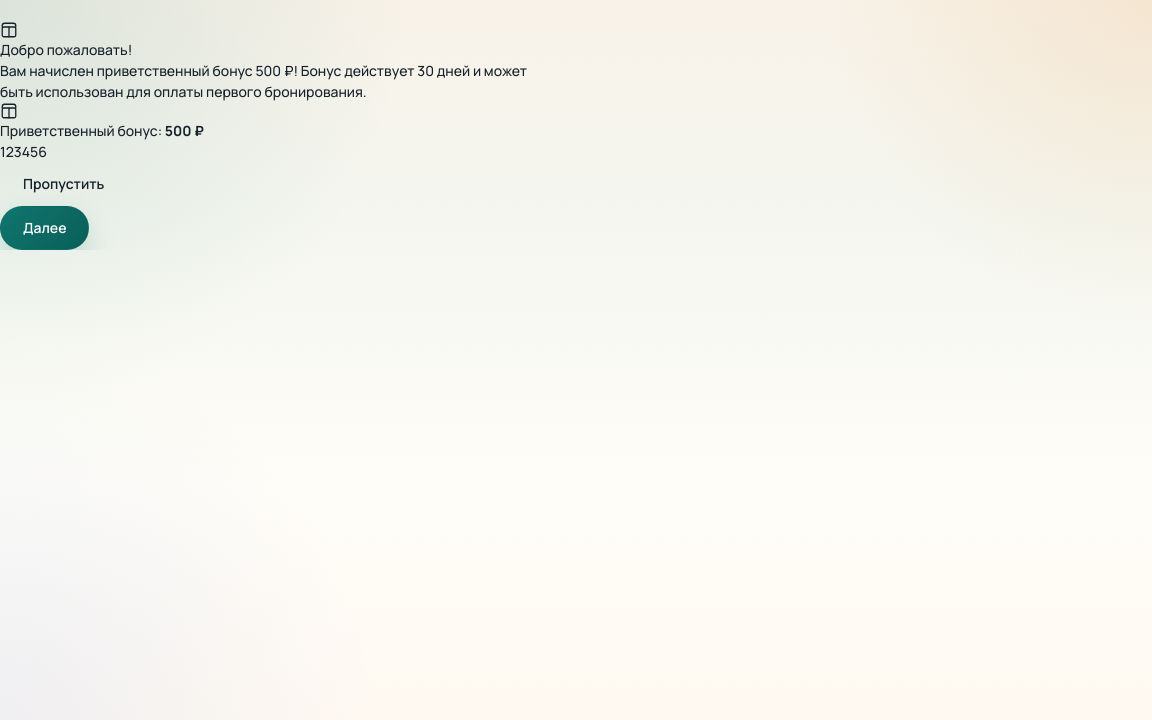
OnboardingTour › navigates through all 6 steps
Expected: the heading "Добро пожаловать!" is shown, [0, 40, 132, 59]
Click the button "Далее".
click(45, 228)  # box [0, 206, 90, 250]
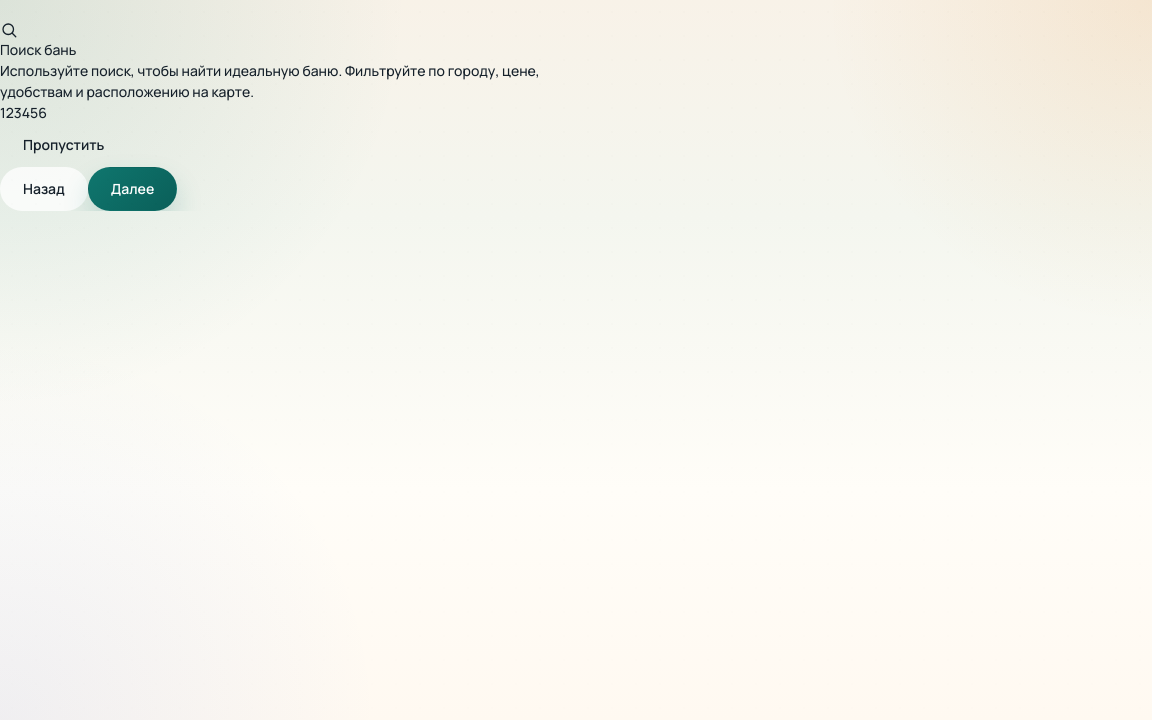
Expected: the heading "Поиск бань" is shown, [0, 40, 76, 59]
Click the button "Далее".
click(133, 189)  # box [88, 167, 177, 211]
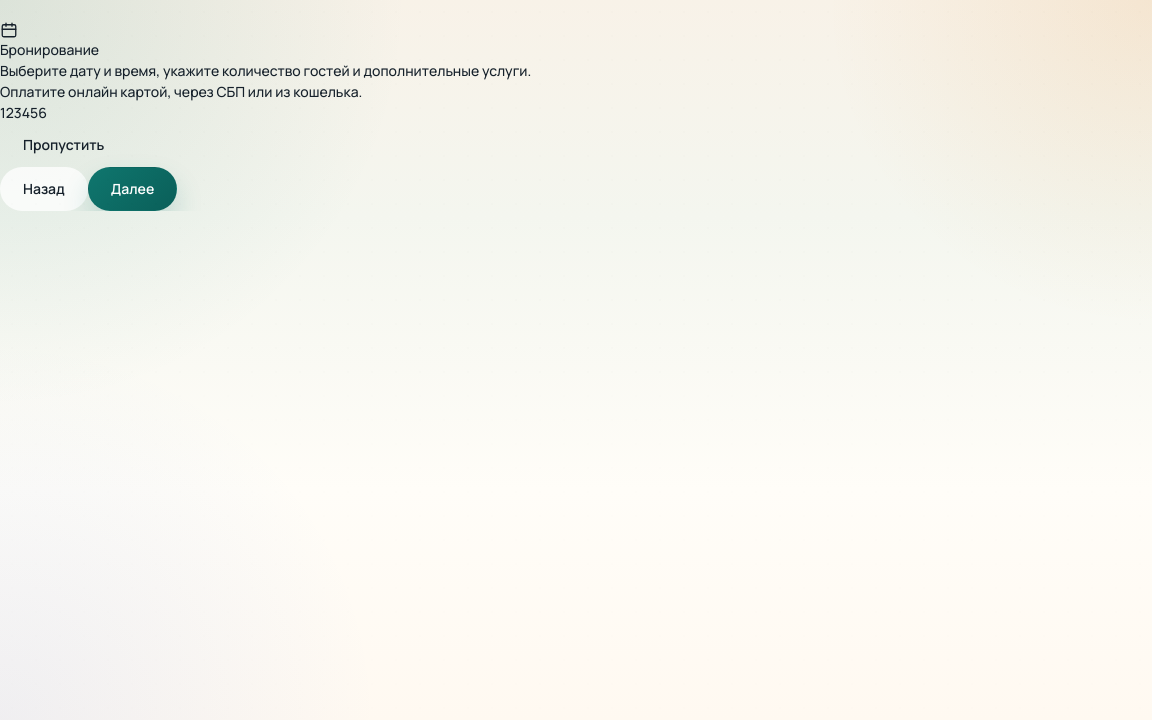
Expected: the heading "Бронирование" is shown, [0, 40, 99, 59]
Click the button "Далее".
click(133, 189)  # box [88, 167, 177, 211]
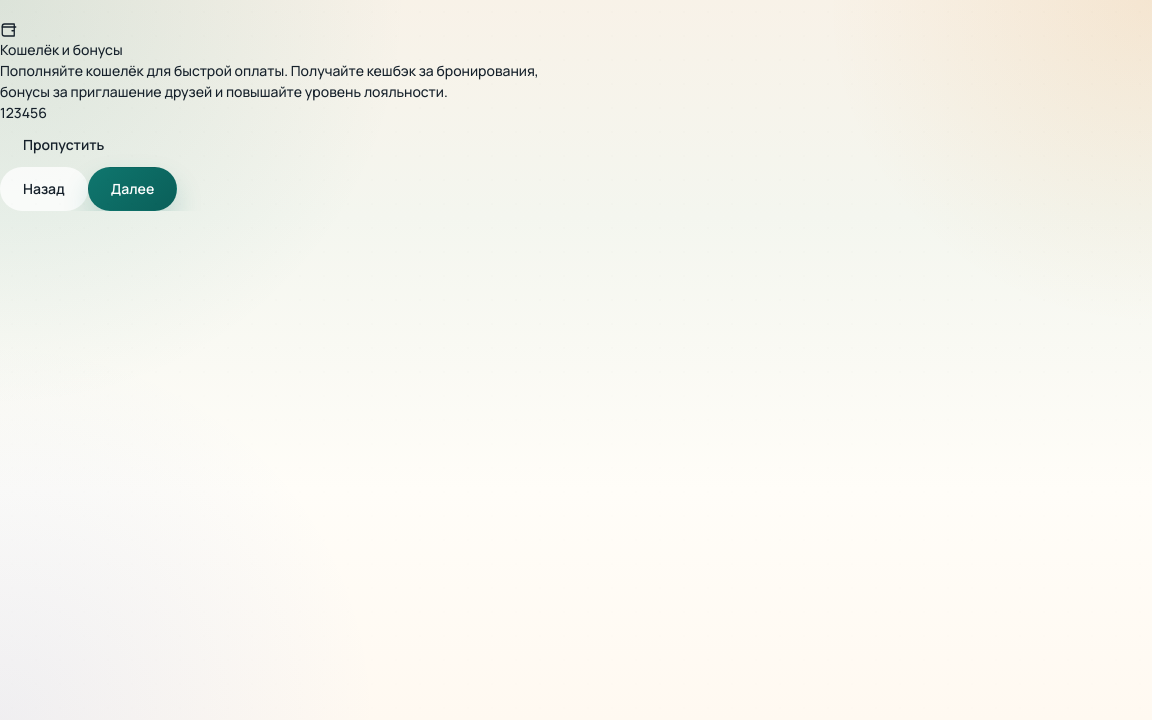
Expected: the heading "Кошелёк и бонусы" is shown, [0, 40, 123, 59]
Click the button "Далее".
click(133, 189)  # box [88, 167, 177, 211]
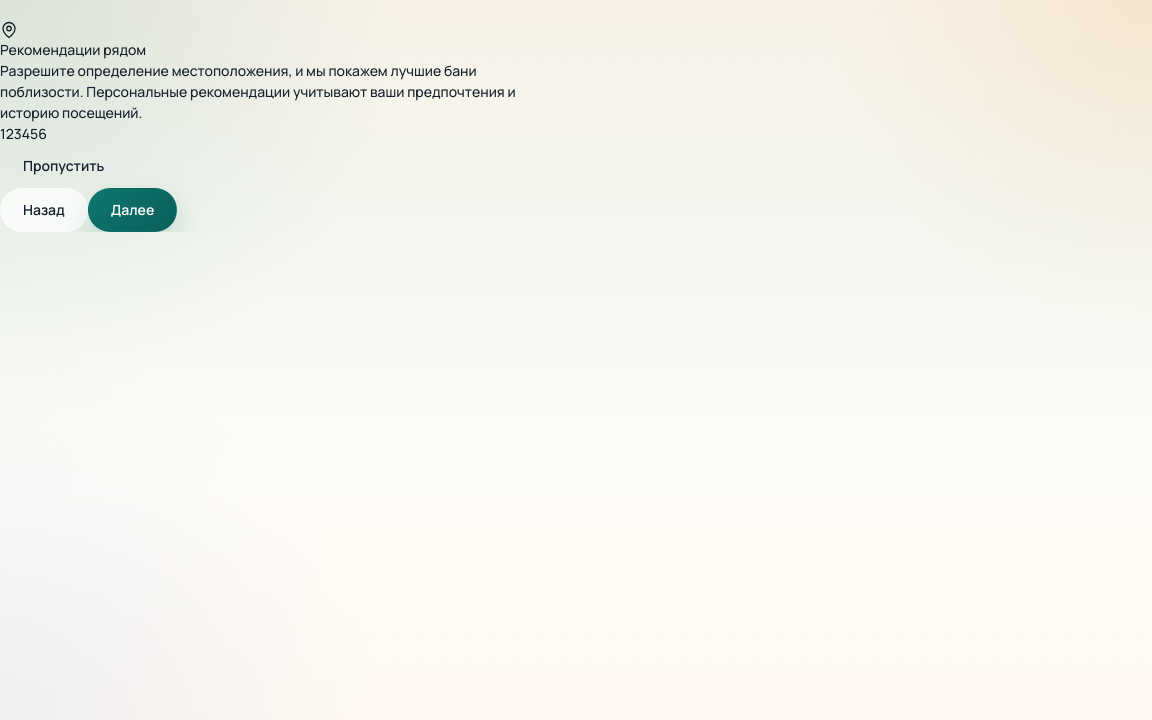
Expected: the heading "Рекомендации рядом" is shown, [0, 40, 146, 59]
Click the button "Далее".
click(133, 210)  # box [88, 188, 177, 232]
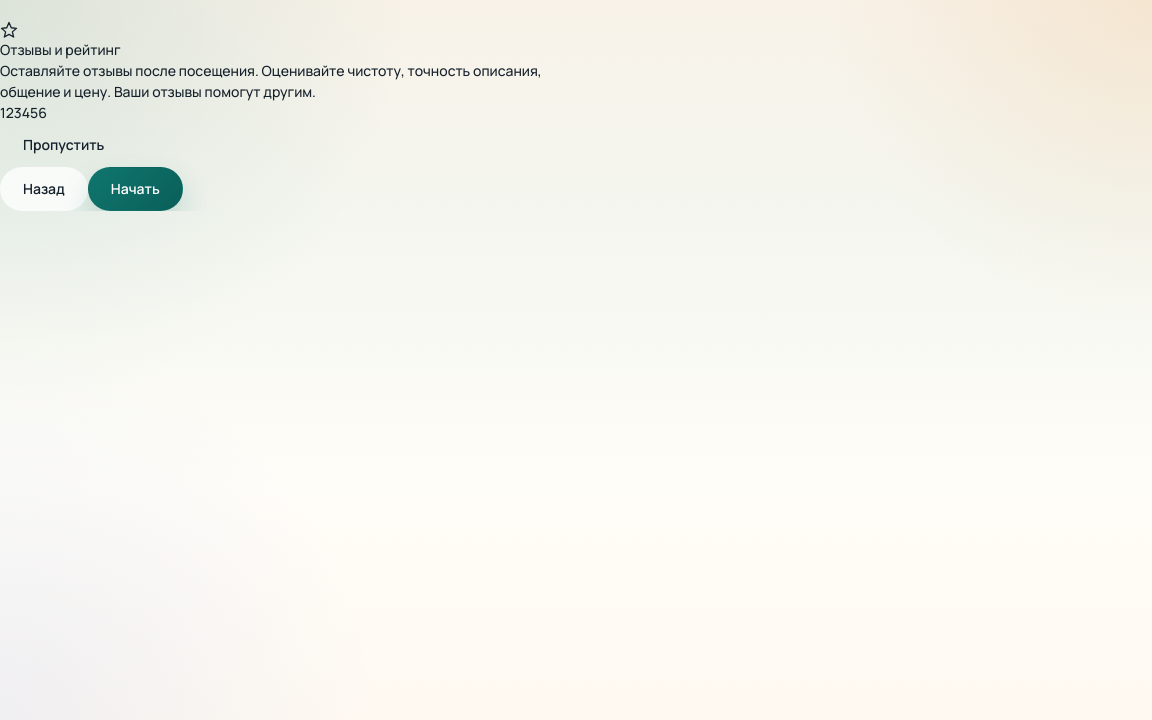
Expected: the heading "Отзывы и рейтинг" is shown, [0, 40, 120, 59]
Expected: the text "Начать" is shown, [111, 179, 160, 199]
